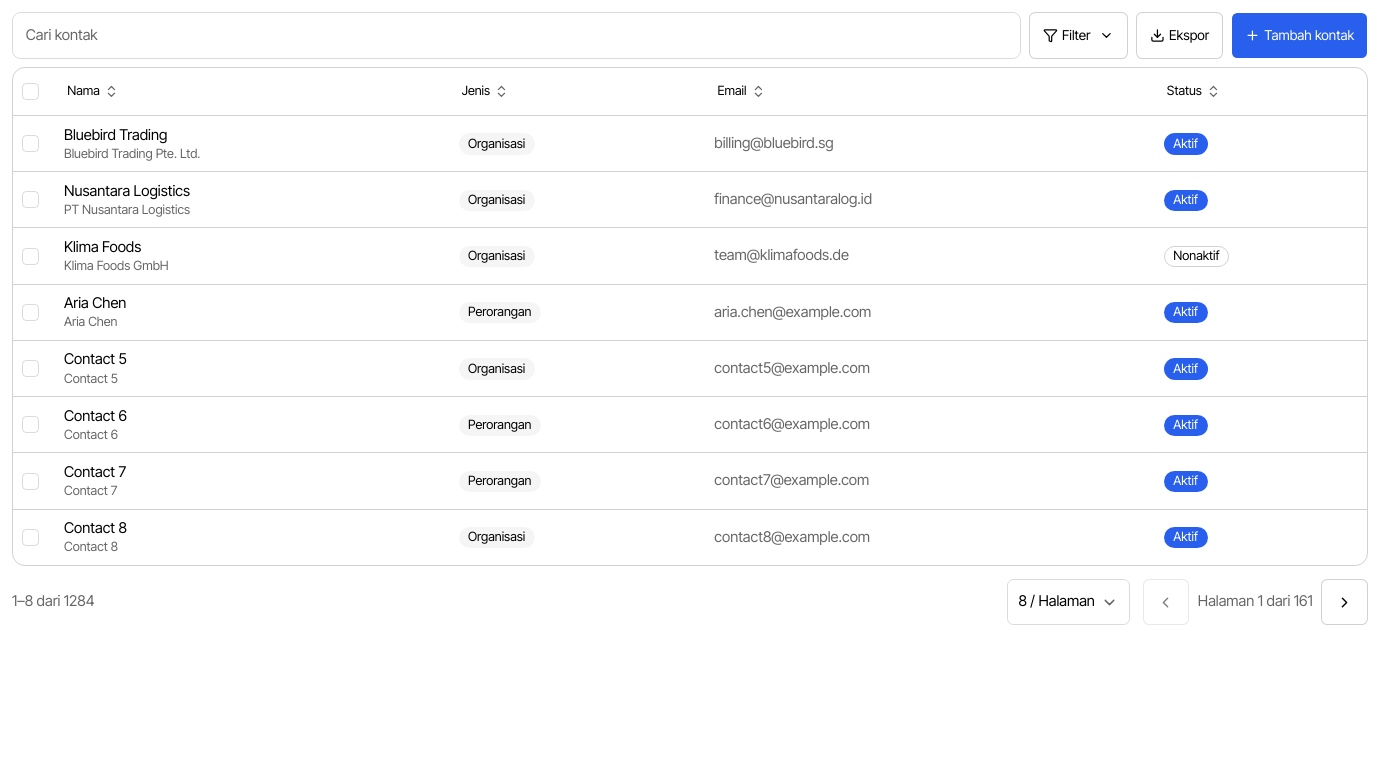
Test: ContactsSection › filters by status
Expected: the text "Bluebird Trading" is shown, [64, 126, 167, 144]
Click the button "Filter" at (1078, 35), box [1029, 12, 1128, 59]
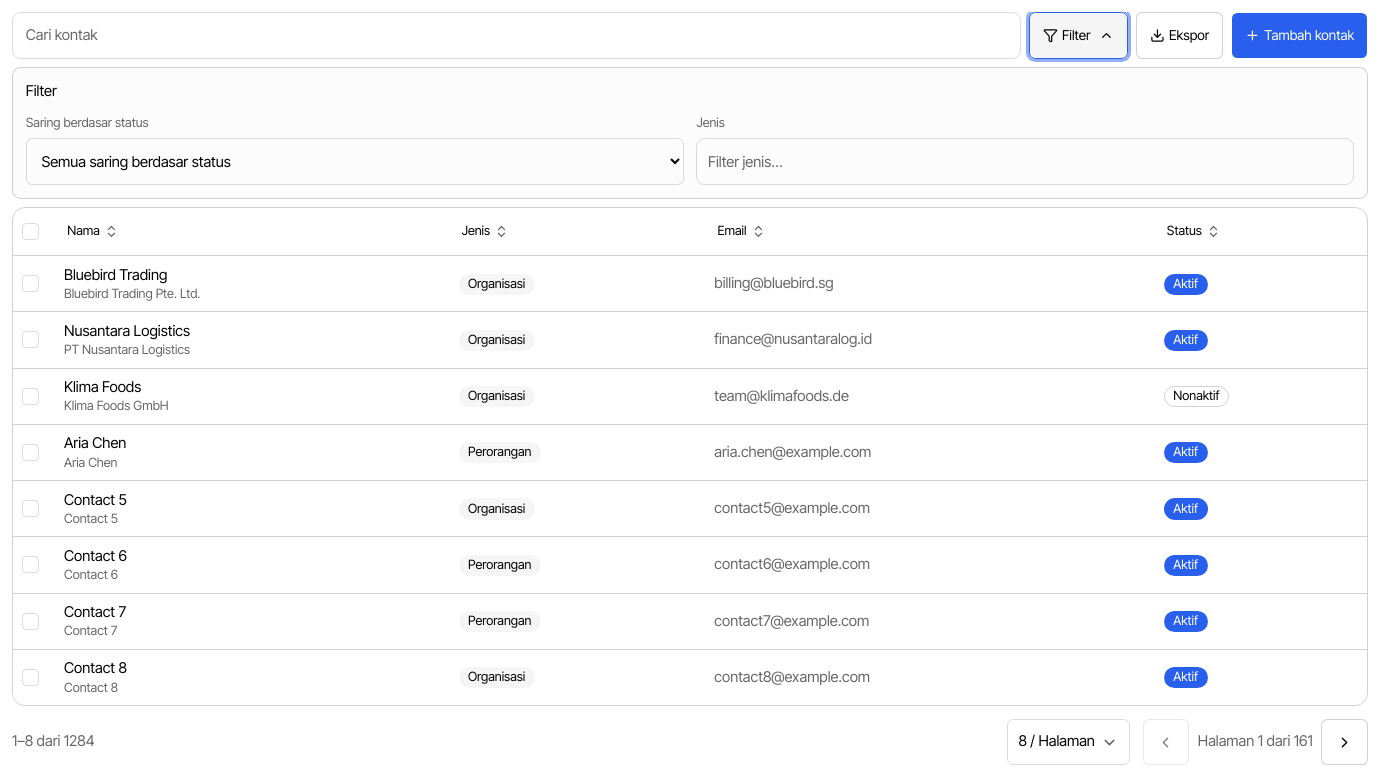
Select "Nonaktif" in the dropdown labelled "Saring berdasar status" at (355, 162), box [26, 138, 684, 185]
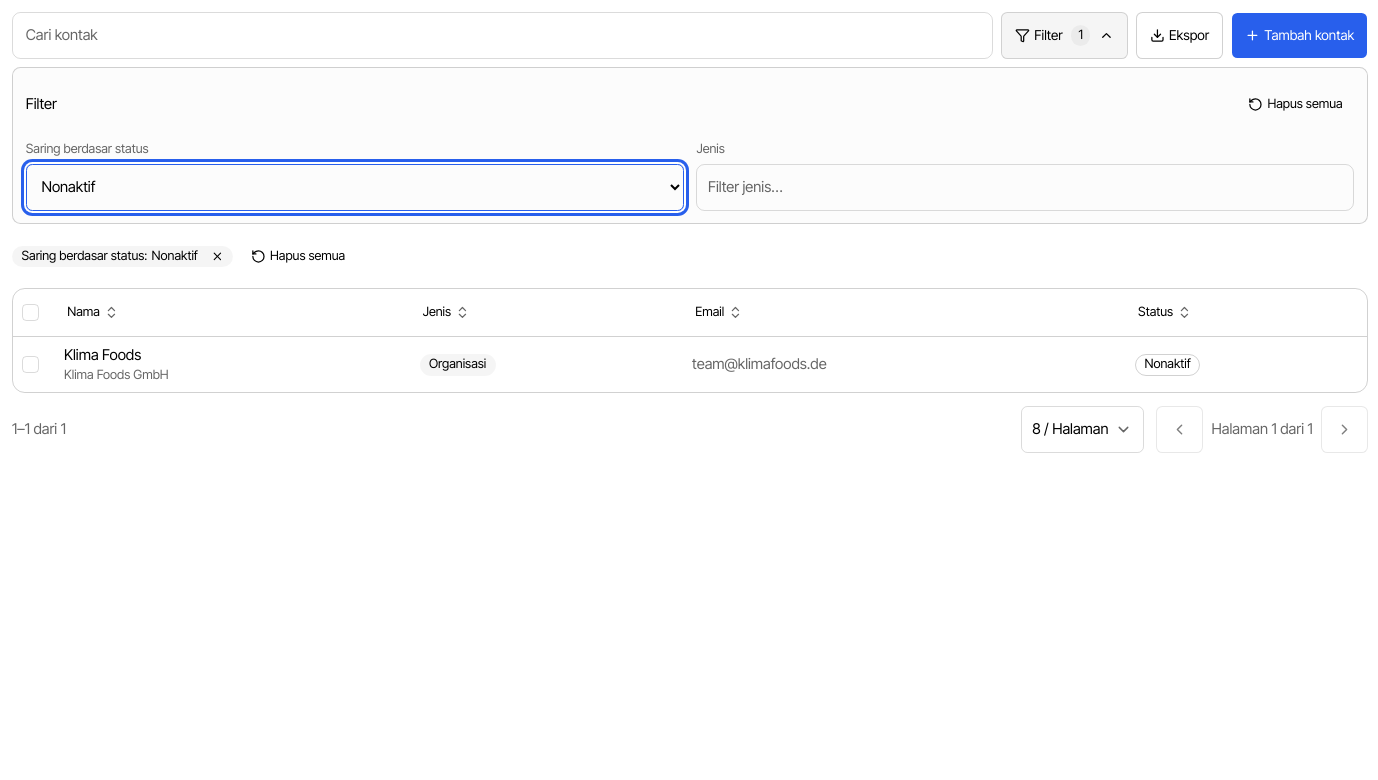
Expected: the text "Klima Foods" is shown, [64, 346, 141, 364]
Expected: the link "Bluebird Trading" is gone
